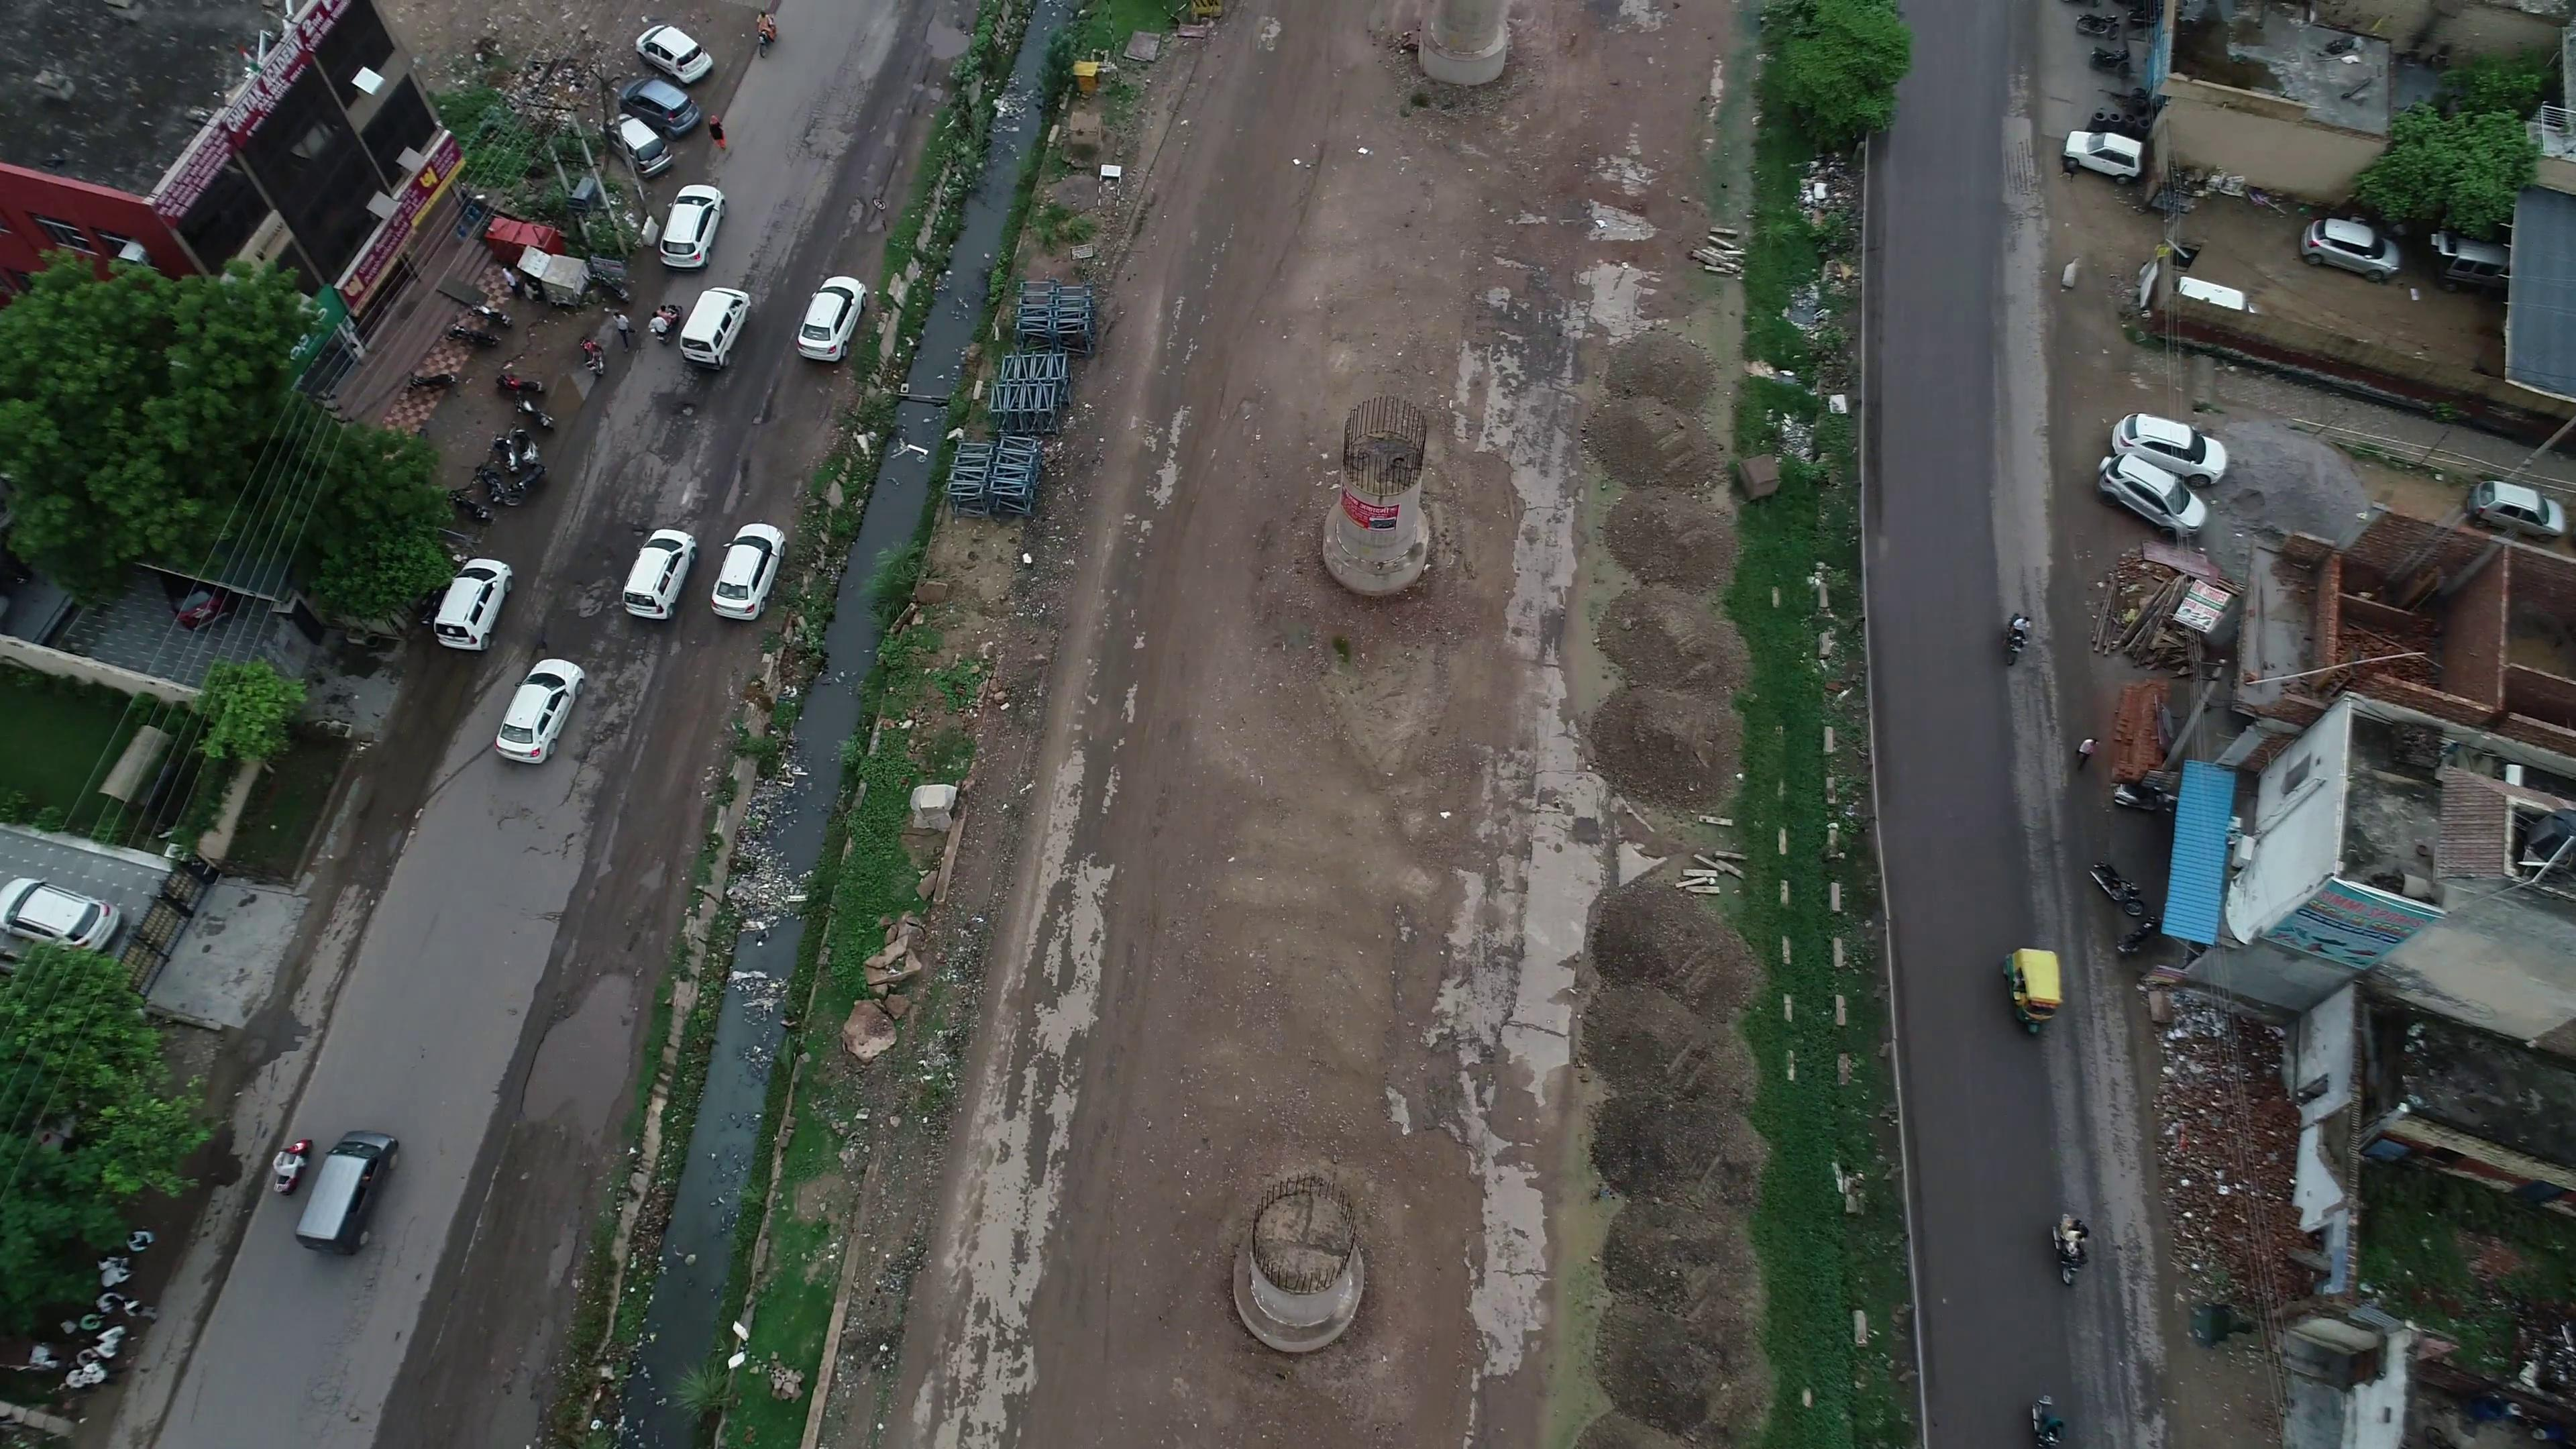Potholes: (524, 570, 605, 660), (619, 504, 681, 545), (660, 393, 709, 425), (741, 395, 775, 432)
